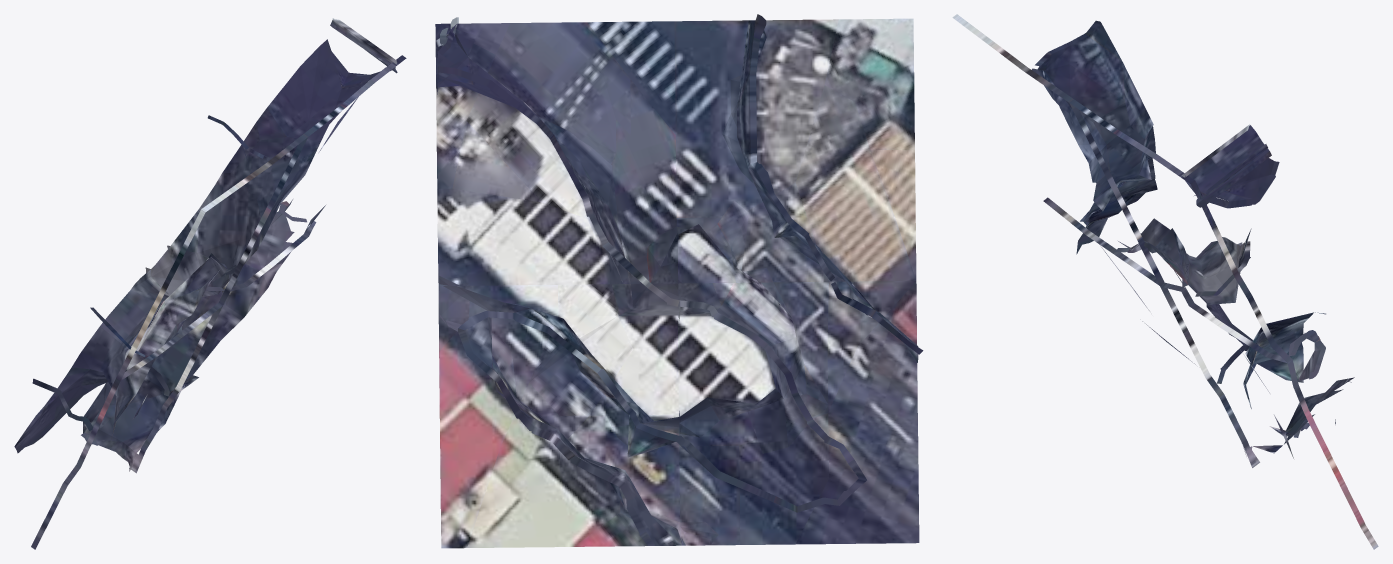
3 renders of one model, left to right at view 1: azimuth 30°, elevation 25°; view 2: azimuth 150°, elevation 25°; view 3: azimuth 270°, elevation 25°, orthographic. The views are drawn at different scales.
Size of the model in its own units: 38.37 by 37.84 by 32.19.
Materials: 2 (2 with a texture image).
